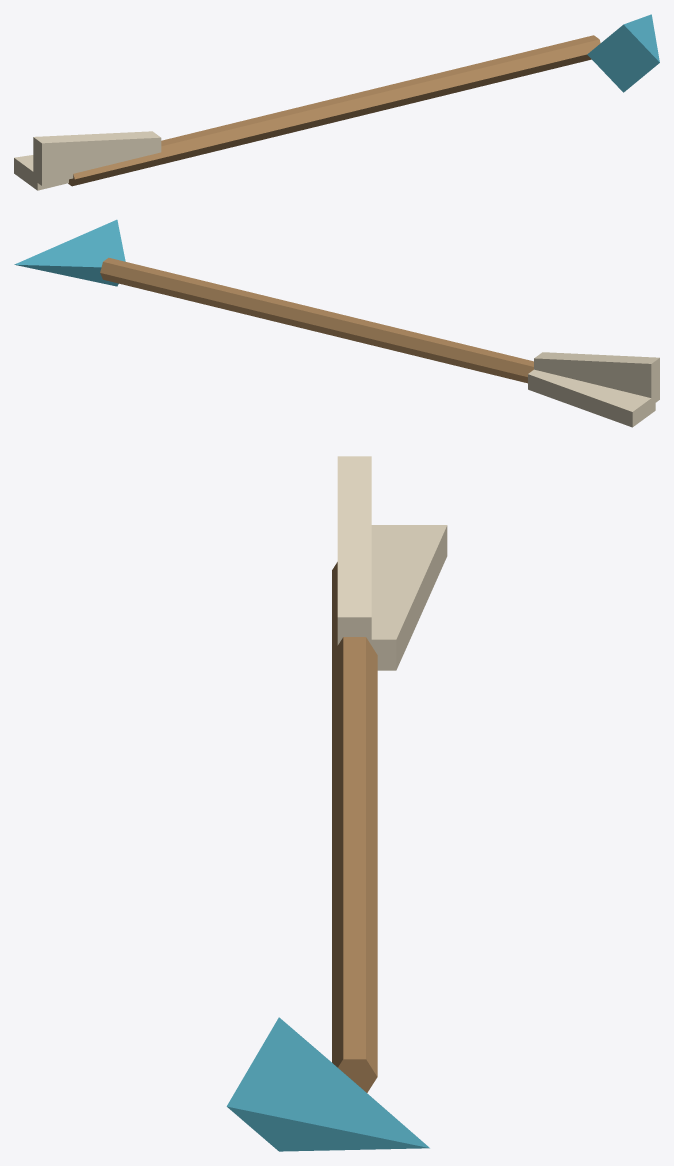
The model's file is MithrilArrowStack2.glb.
3 views of the same model, one above another, from view 1: azimuth 30°, elevation 25°; view 2: azimuth 150°, elevation 25°; view 3: azimuth 270°, elevation 25° (orthographic). The views are drawn at different scales.
Parts seen in each view (by area): view 1: MithrilArrow_1_shaft, MithrilArrow_2_shaft, MithrilArrow_1_fletch_v, MithrilArrow_1_head, MithrilArrow_2_head, MithrilArrow_1_fletch_h; view 2: MithrilArrow_1_shaft, MithrilArrow_2_shaft, MithrilArrow_1_fletch_v, MithrilArrow_1_fletch_h, MithrilArrow_1_head, MithrilArrow_2_fletch_v, MithrilArrow_2_head; view 3: MithrilArrow_1_head, MithrilArrow_1_shaft, MithrilArrow_2_shaft, MithrilArrow_1_fletch_h, MithrilArrow_1_fletch_v.
Boxes of the visible parts, x1,y1,x2,y2 form: MithrilArrow_1_shaft: (68, 35, 600, 186); MithrilArrow_2_shaft: (69, 54, 591, 185); MithrilArrow_1_fletch_v: (33, 131, 161, 185); MithrilArrow_1_head: (587, 14, 659, 92); MithrilArrow_2_head: (590, 16, 656, 89); MithrilArrow_1_fletch_h: (14, 155, 68, 190); MithrilArrow_1_shaft: (100, 257, 533, 383); MithrilArrow_2_shaft: (100, 273, 533, 376); MithrilArrow_1_fletch_v: (534, 352, 659, 402); MithrilArrow_1_fletch_h: (528, 369, 655, 427); MithrilArrow_1_head: (14, 219, 125, 284); MithrilArrow_2_fletch_v: (535, 352, 659, 404); MithrilArrow_2_head: (15, 220, 124, 286); MithrilArrow_1_head: (226, 1017, 429, 1151); MithrilArrow_1_shaft: (332, 600, 377, 1092); MithrilArrow_2_shaft: (332, 562, 377, 1092); MithrilArrow_1_fletch_h: (368, 525, 447, 670); MithrilArrow_1_fletch_v: (337, 456, 371, 645).
Size of the model in its own units: 1.01 by 0.117 by 0.1548.
